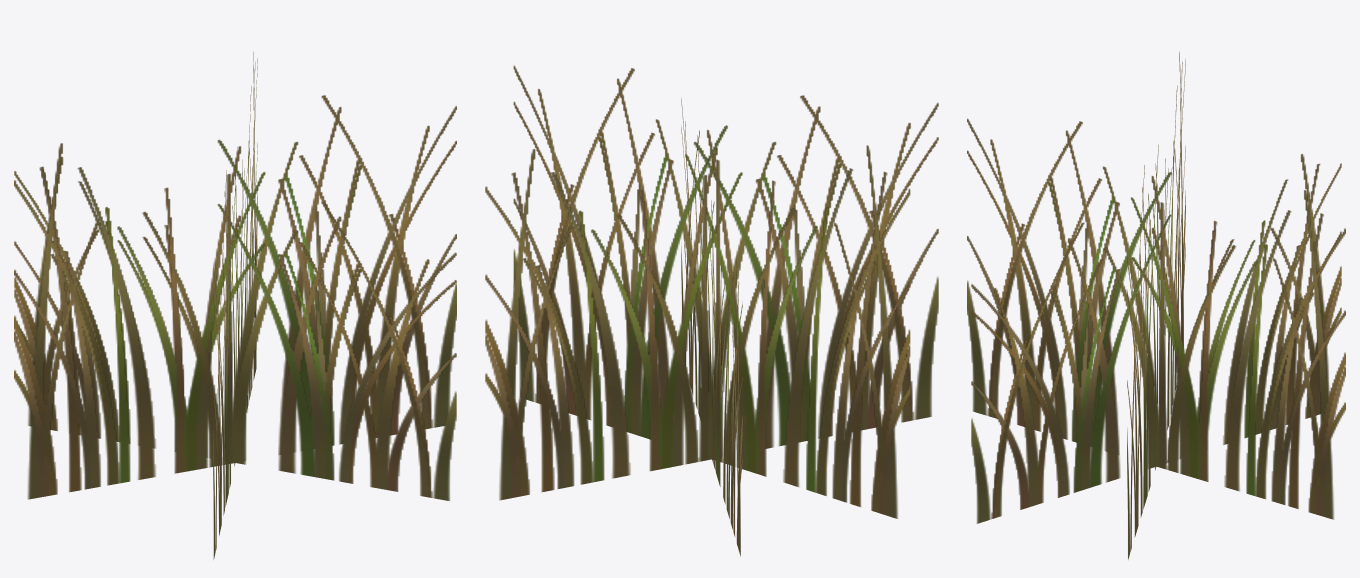
Rendered from grass_clump_2.glb.
3 renders of one model, left to right at view 1: azimuth 30°, elevation 25°; view 2: azimuth 150°, elevation 25°; view 3: azimuth 270°, elevation 25°, orthographic. The views are drawn at different scales.
Parts seen in each view (by area): view 1: grass_clump_2; view 2: grass_clump_2; view 3: grass_clump_2.
Part boxes in pixels (x1,y1,x2,y2): grass_clump_2: (14, 52, 456, 559); grass_clump_2: (485, 65, 938, 556); grass_clump_2: (967, 52, 1345, 559).
Bounding box in the file's own units: 0.5951 × 0.5064 × 0.4893.
1 material, 1 textured.
